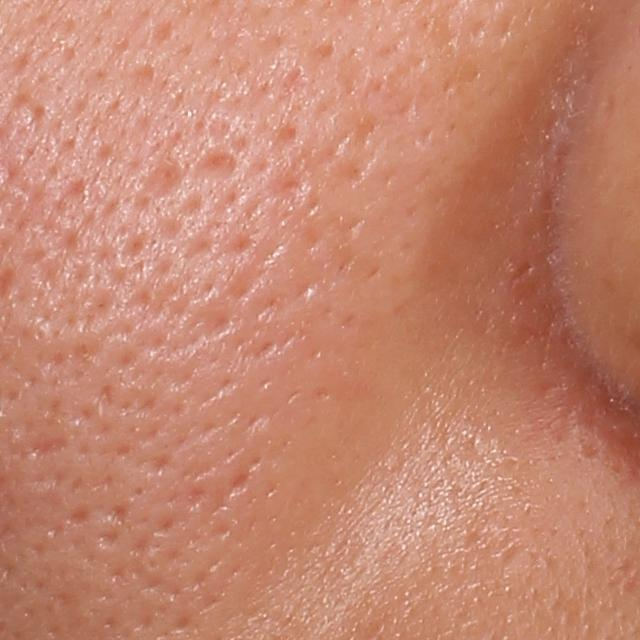atrophic_scar: (190, 143, 246, 186), (138, 153, 184, 201), (19, 428, 73, 466)
